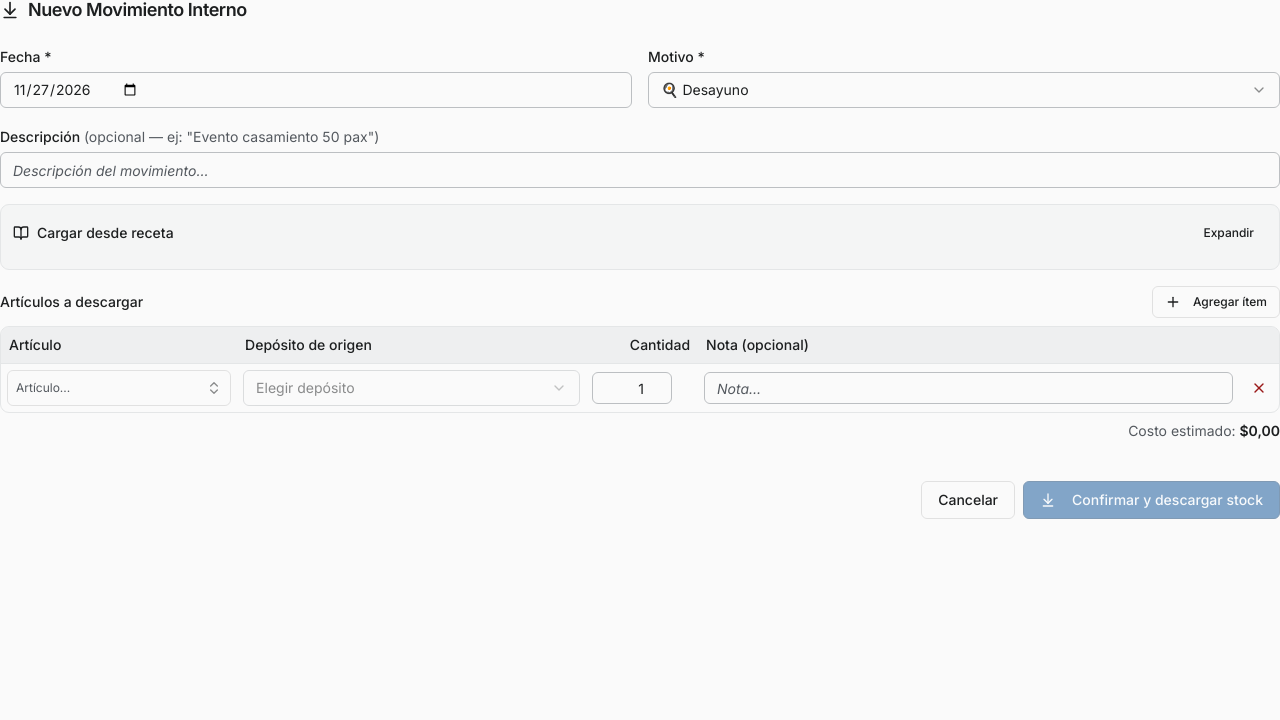
Scenario: ItemCombobox — buscador de artículos › también filtra por SKU
The image size is (1280, 720).
Step 1. Click the button with test id "btn-add-im-item" → coordinates (1216, 302), box x1=1152 y1=286 x2=1279 y2=318
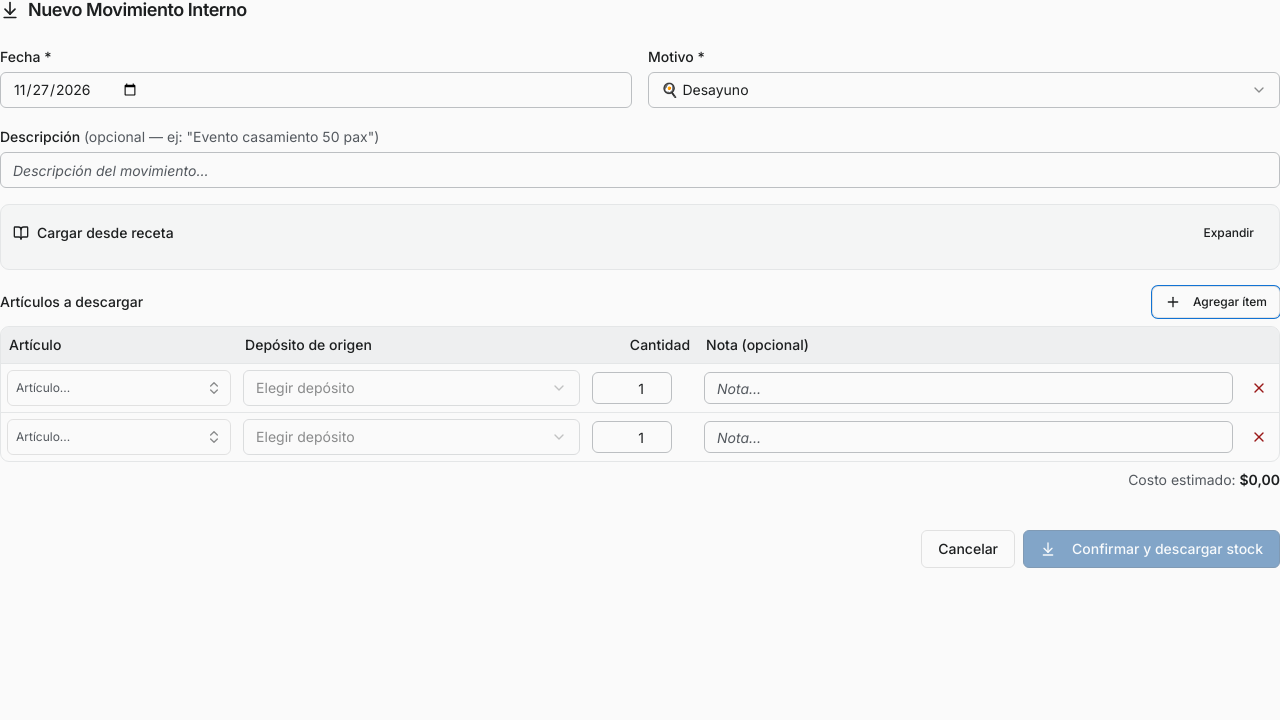
Step 2. Click the dropdown with test id "select-im-item-0" → coordinates (119, 388), box x1=7 y1=370 x2=231 y2=406
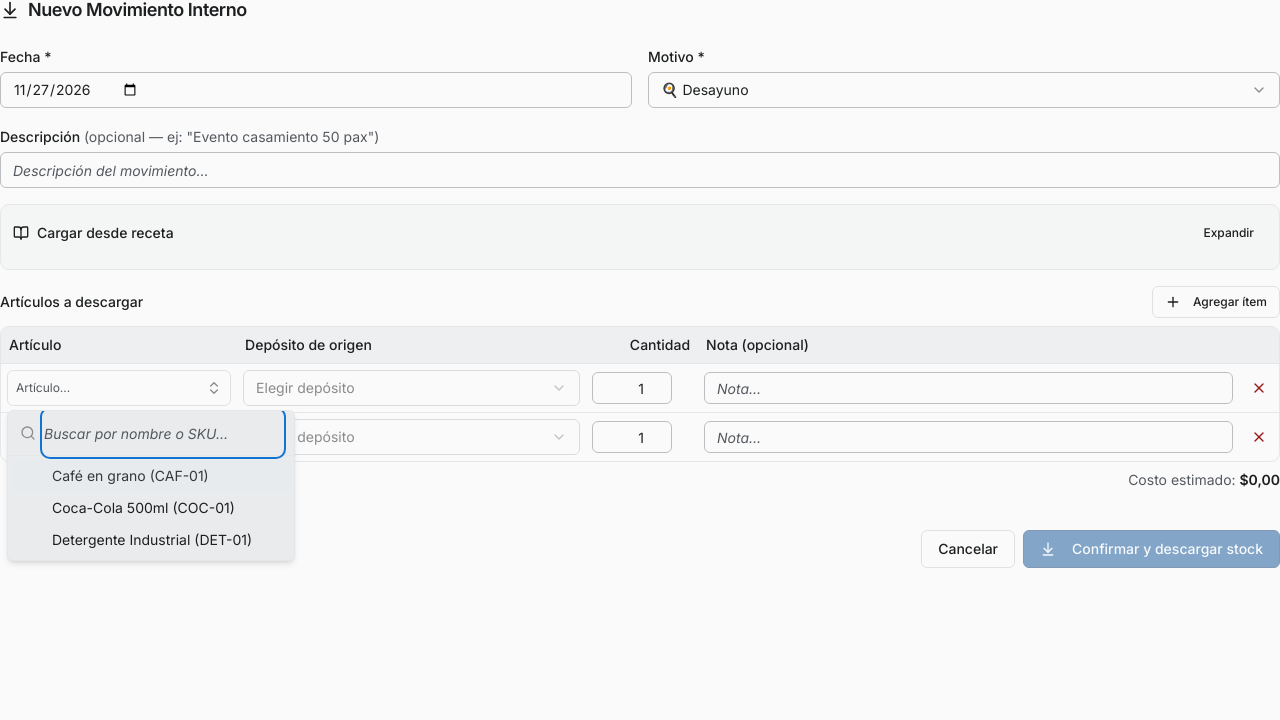
Expected: the text "Café en grano (CAF-01)" is shown, x1=52 y1=467 x2=209 y2=484
Step 3. Type "det-01" into the dropdown with test id "select-im-item-0-search" → coordinates (163, 433), box x1=44 y1=411 x2=282 y2=455
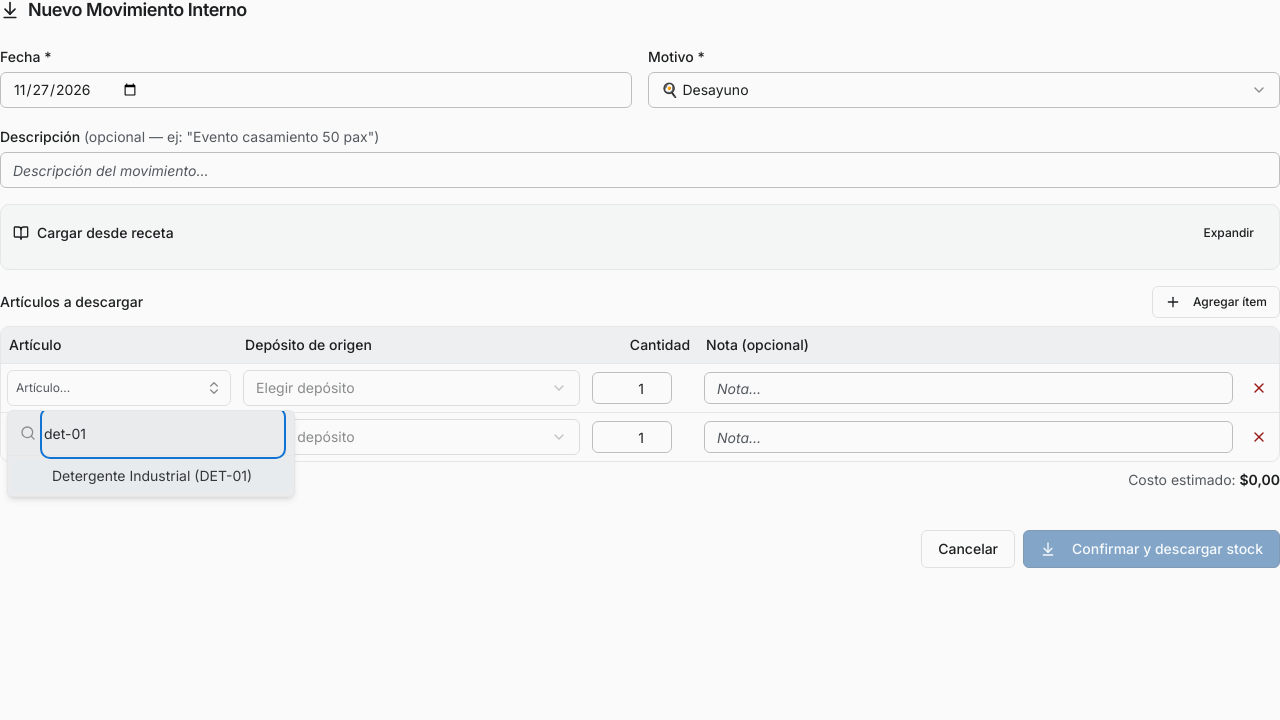
Expected: the text "Detergente Industrial (DET-01)" is shown, x1=52 y1=466 x2=282 y2=486
Expected: the option "Café en grano (CAF-01)" is gone
